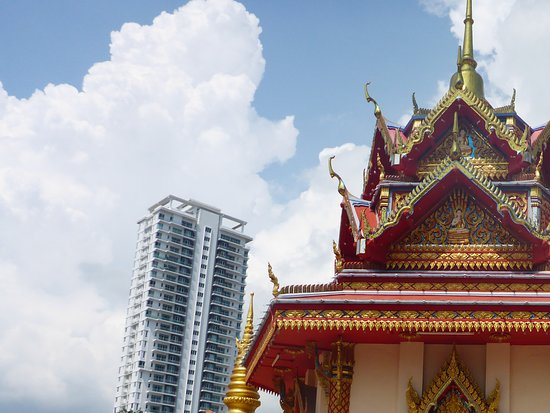Buddhist Temple: (278, 9, 542, 403)
